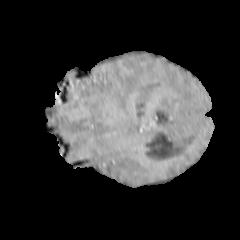glioma: (116, 70, 197, 131)
